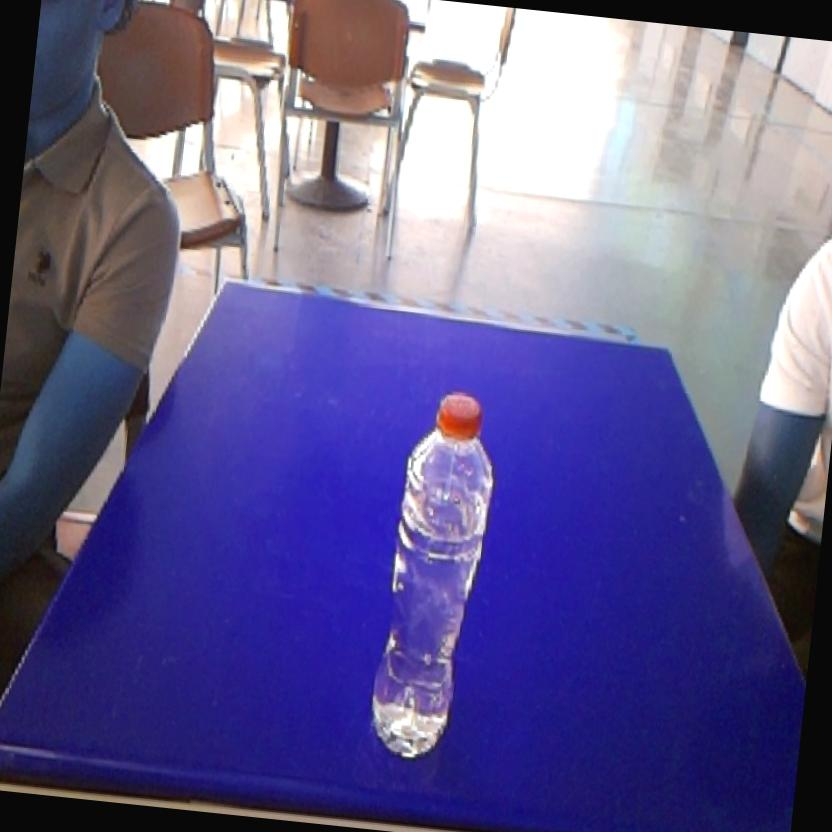no_label: (357, 380, 510, 773)
